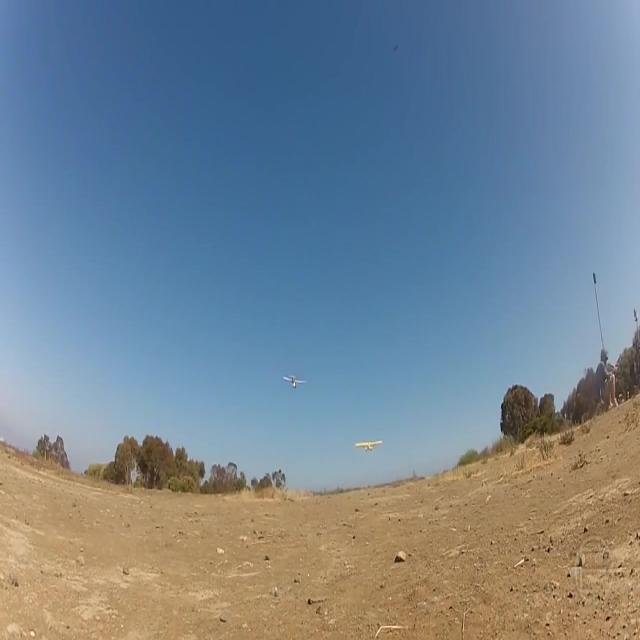iha: (281, 373, 309, 389), (353, 443, 383, 449)
